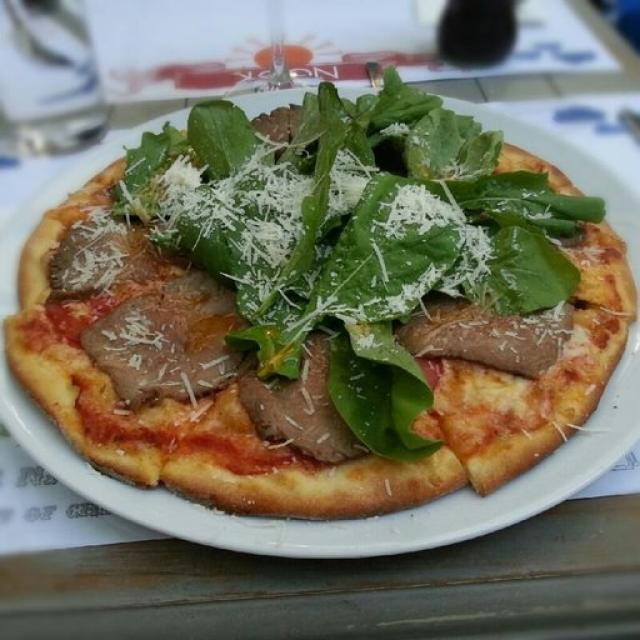Ham: (85, 280, 239, 386), (409, 288, 566, 370), (241, 352, 345, 450), (57, 216, 143, 280), (260, 105, 306, 140)
Pizza: (5, 70, 626, 518)
Rucola: (289, 168, 472, 336), (342, 219, 428, 450), (141, 121, 242, 261), (230, 219, 326, 342), (444, 170, 590, 234), (470, 224, 571, 307), (303, 105, 366, 218), (376, 92, 453, 162), (450, 121, 501, 166)
